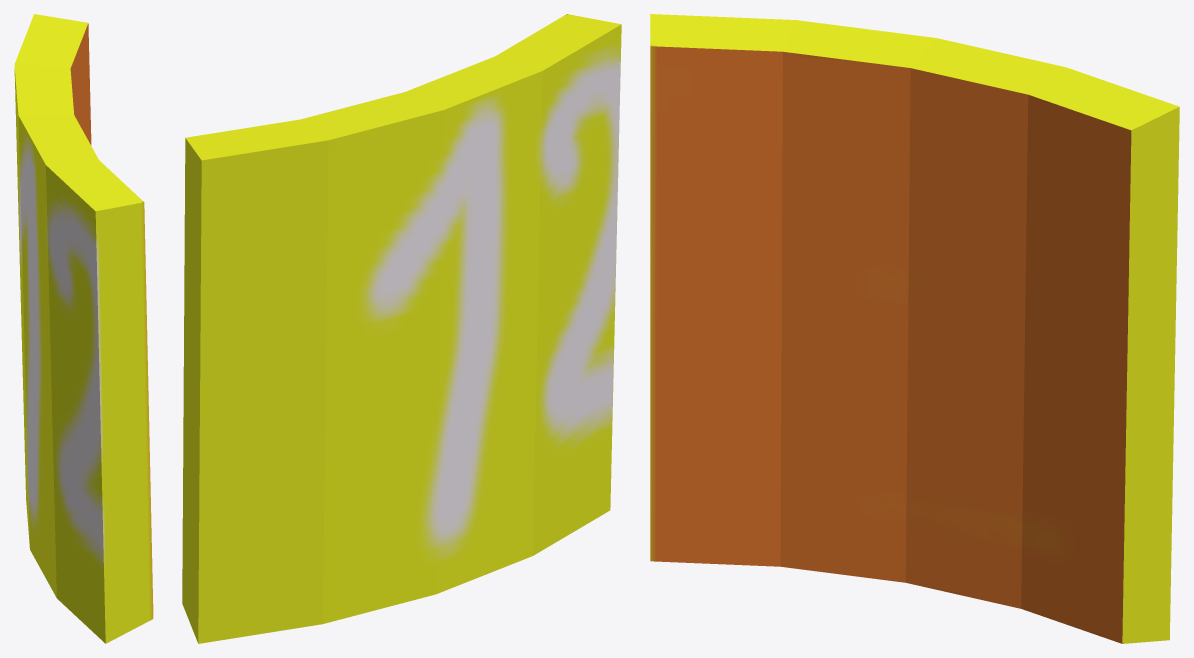
Rendered from Level_1_1.obj.
3 views of the same model, side by side, from view 1: azimuth 30°, elevation 25°; view 2: azimuth 150°, elevation 25°; view 3: azimuth 270°, elevation 25° (orthographic). The views are drawn at different scales.
Visible parts, largest first — view 1: Level_1_1_Cylinder.009; view 2: Level_1_1_Cylinder.009; view 3: Level_1_1_Cylinder.009.
Boxes of the visible parts, x1,y1,x2,y2 form: Level_1_1_Cylinder.009: [14, 14, 153, 643]; Level_1_1_Cylinder.009: [182, 14, 621, 643]; Level_1_1_Cylinder.009: [650, 14, 1179, 643].
Bounding box in the file's own units: 0.8892 × 1.88 × 1.7.
